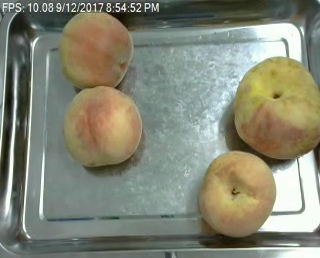Peach: (232, 55, 319, 158), (198, 149, 277, 238), (64, 86, 142, 167), (59, 8, 133, 89)
